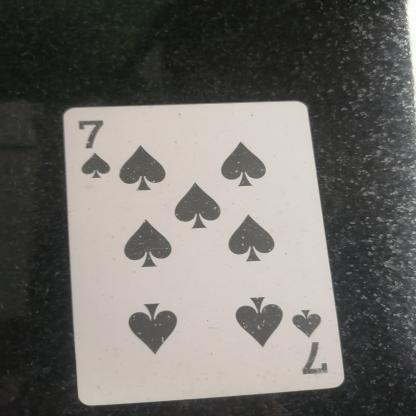7S: (279, 302, 344, 384), (72, 110, 127, 183)
